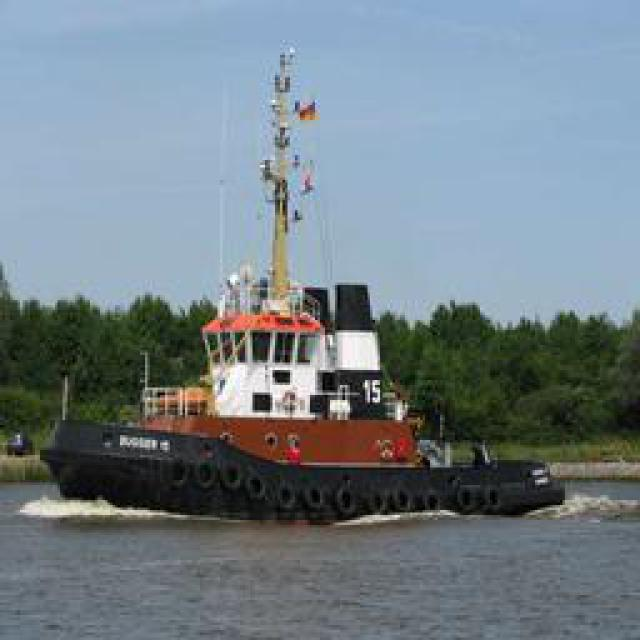Ship: (54, 39, 537, 519)
